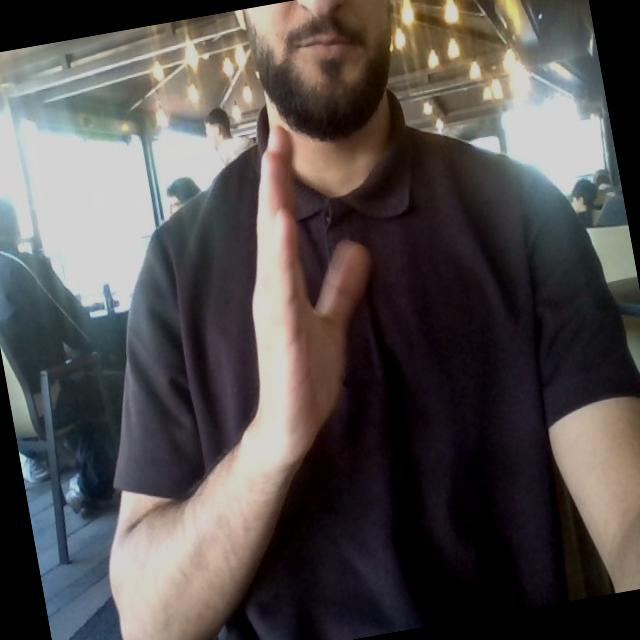Hand: (252, 128, 370, 462)
